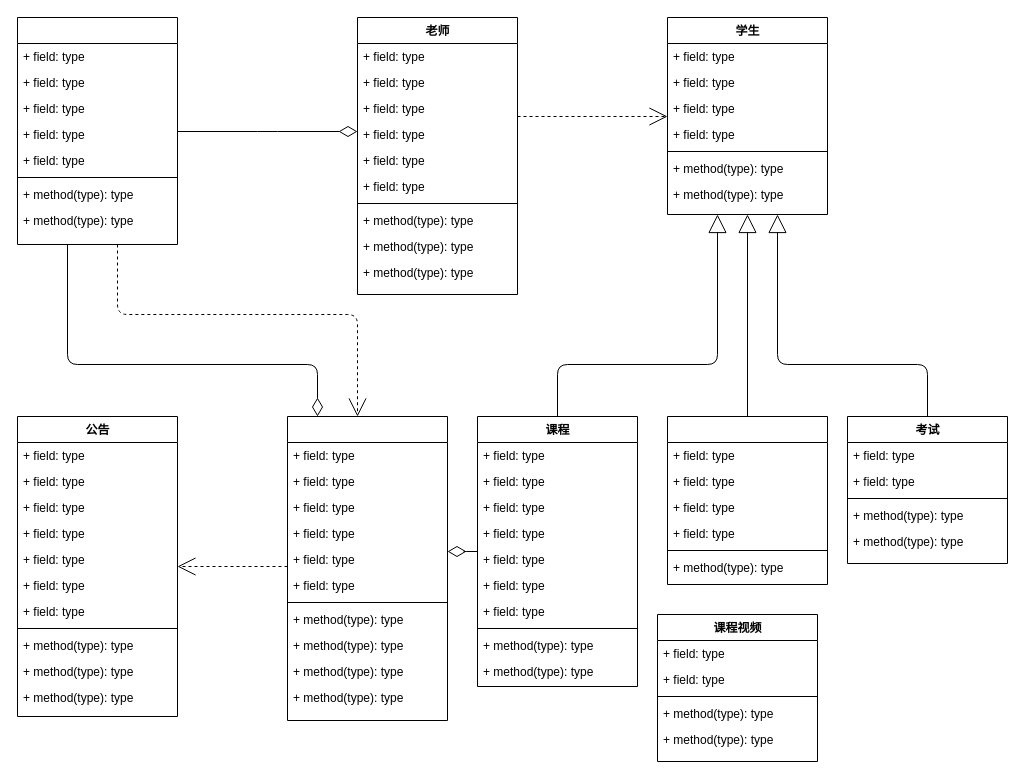
Image size: 1025x779. Some labels were removed from this diagram. Here are the shapes that lost their labels. From the top down, the box of each, then its label:
(16, 16, 178, 244): 管理员
(666, 416, 828, 584): 作业
(286, 416, 448, 720): 论坛
